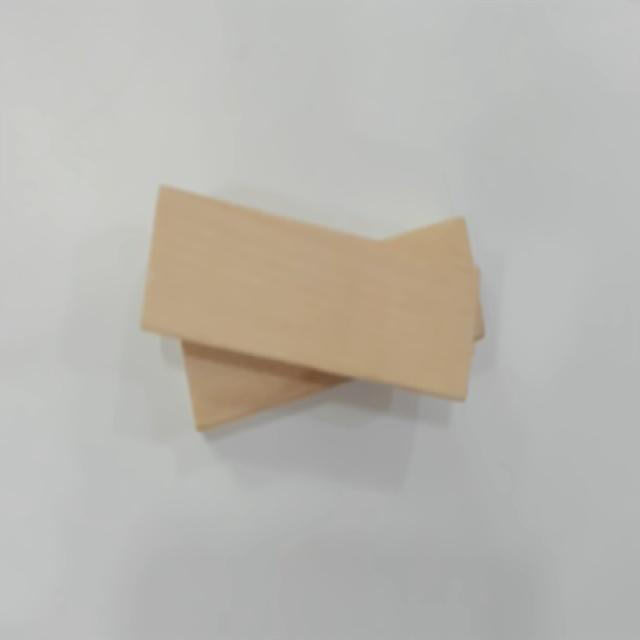Jenga: (142, 183, 482, 404), (181, 217, 488, 432)
